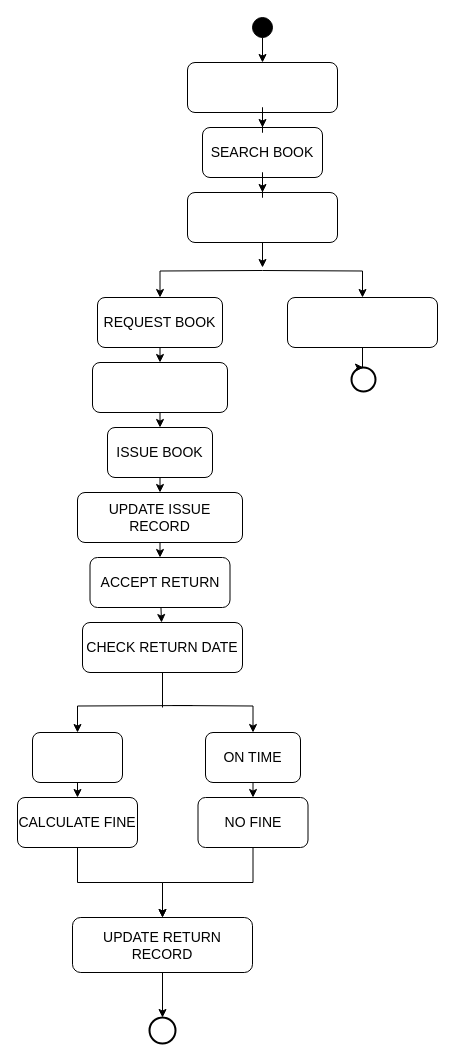
This 455x1062 diagram has some shape labels left out. The shapes that lost their labels are listed below. From the top down, each one's centre as x and y in pixels, then its label:
At (x=262, y=87): "LOGIN".
At (x=262, y=217): "CHECK AVAILABILITY".
At (x=362, y=322): "BOOK NOT AVAILABLE".
At (x=160, y=387): "VERIFY STUDENT".
At (x=77, y=757): "OVERDUE".
